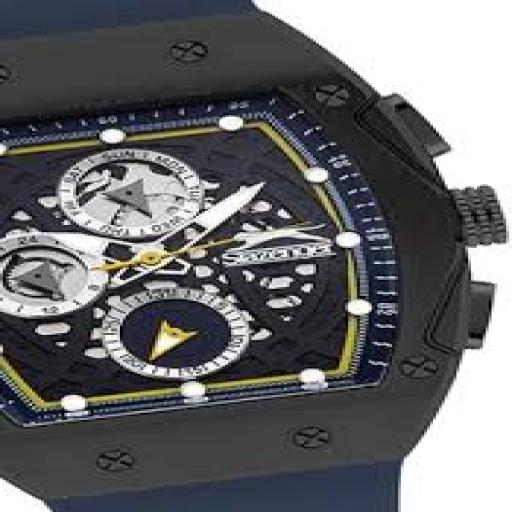KolSaati: (2, 1, 508, 509)
